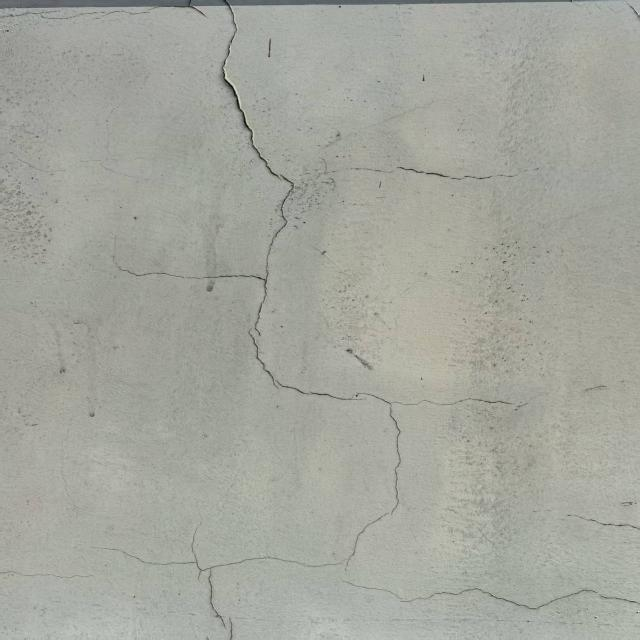crack: (83, 6, 533, 640), (332, 571, 637, 617), (311, 151, 549, 186), (556, 508, 635, 541)
